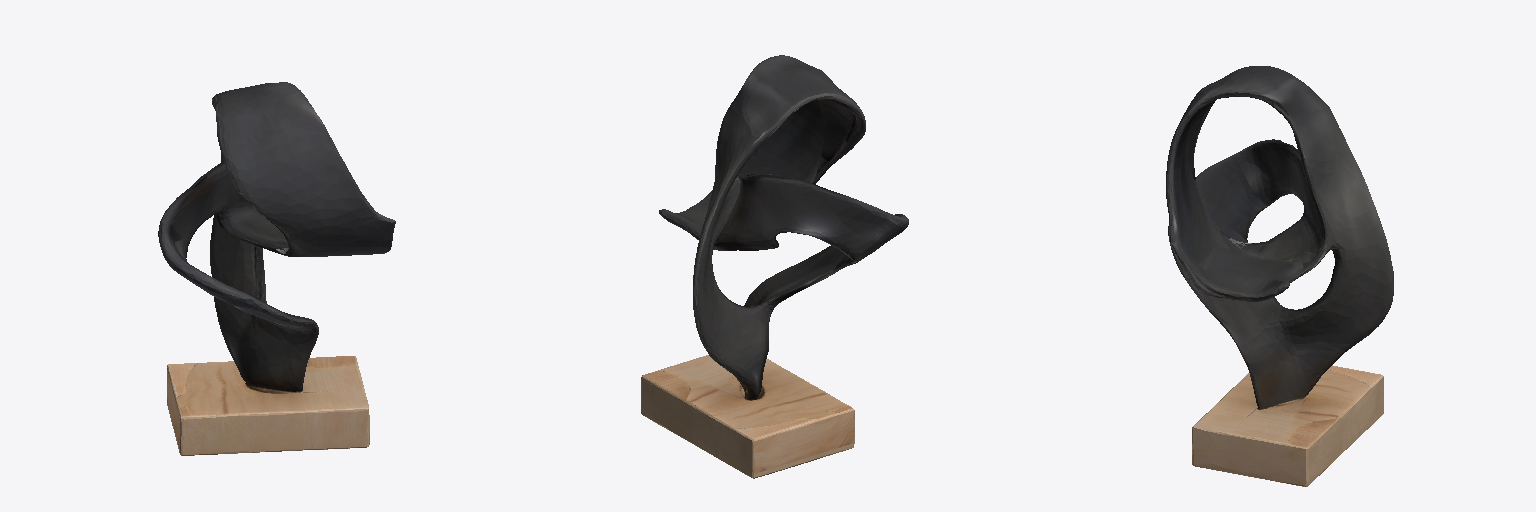
3 renders of one model, left to right at view 1: azimuth 30°, elevation 25°; view 2: azimuth 150°, elevation 25°; view 3: azimuth 270°, elevation 25°, orthographic.
Parts seen in each view (by area): view 1: estatuanueva9; view 2: estatuanueva9; view 3: estatuanueva9.
Part boxes in pixels (left/top/right/bottom): estatuanueva9: left=158, top=82, right=395, bottom=455; estatuanueva9: left=641, top=55, right=908, bottom=478; estatuanueva9: left=1166, top=66, right=1393, bottom=486.
Size of the model in its own units: 7.02 by 10.45 by 6.11.
Materials: 1 (1 with a texture image).